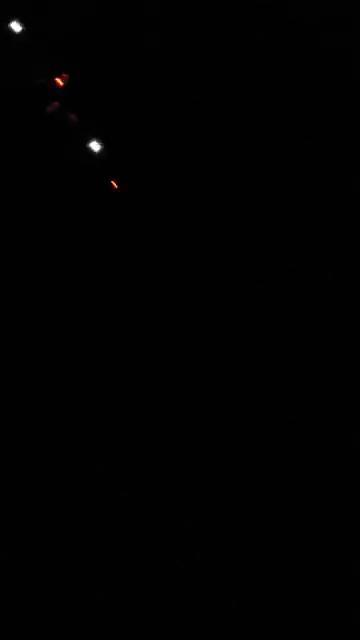Plane: (0, 8, 140, 214)
